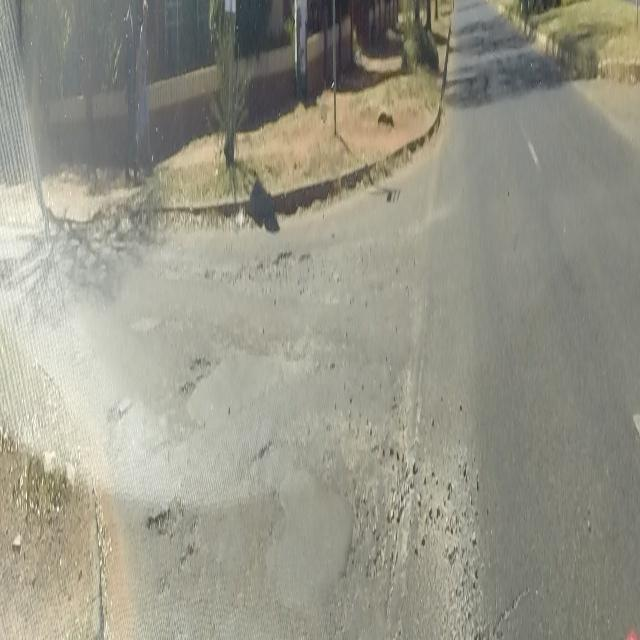pothole: (146, 494, 183, 539), (181, 353, 215, 396), (266, 250, 313, 276), (250, 441, 272, 470), (106, 401, 124, 422)
